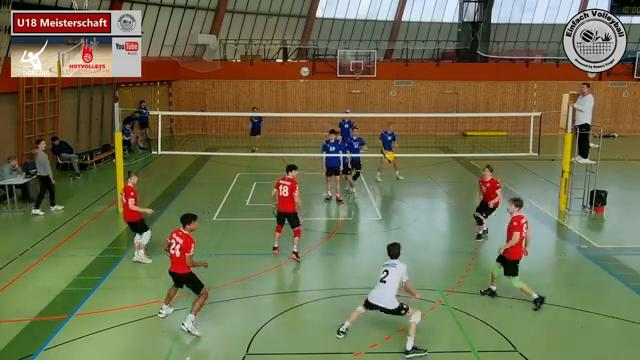ricezione: (336, 237, 431, 358)
